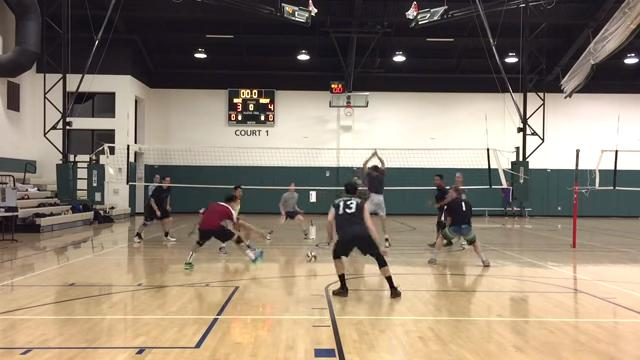difesa: (183, 191, 265, 270)
